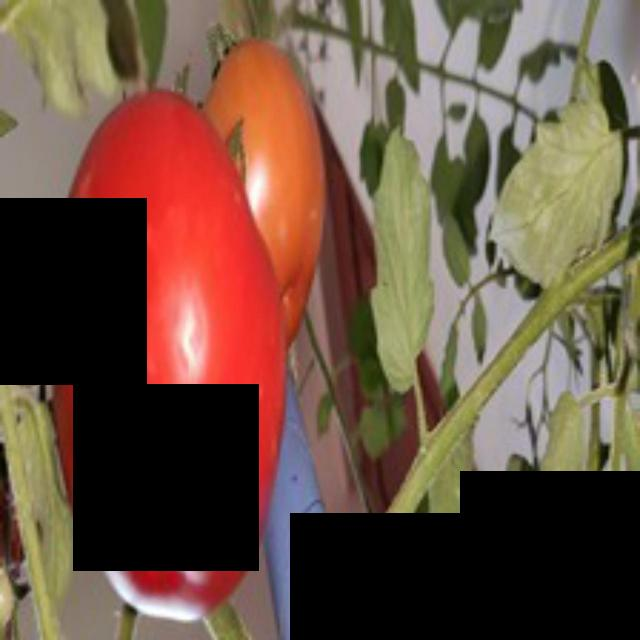tomato: (44, 83, 294, 627)
